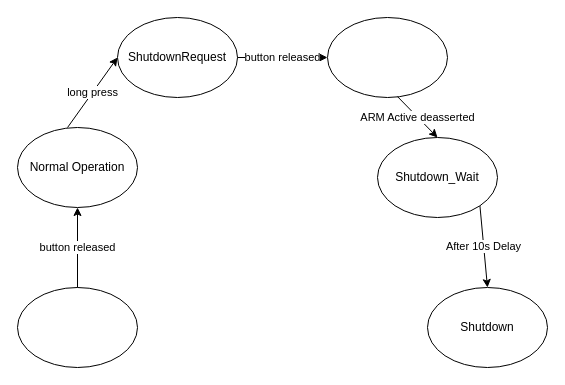
Some shapes in this 565 by 385 pixel diagram are drawn without their labels. Here are the shapes that lost their labels. From the top down, the box of each, then its label:
(326, 16, 448, 98): ShutdownInitiated
(16, 286, 138, 368): PowerOn
